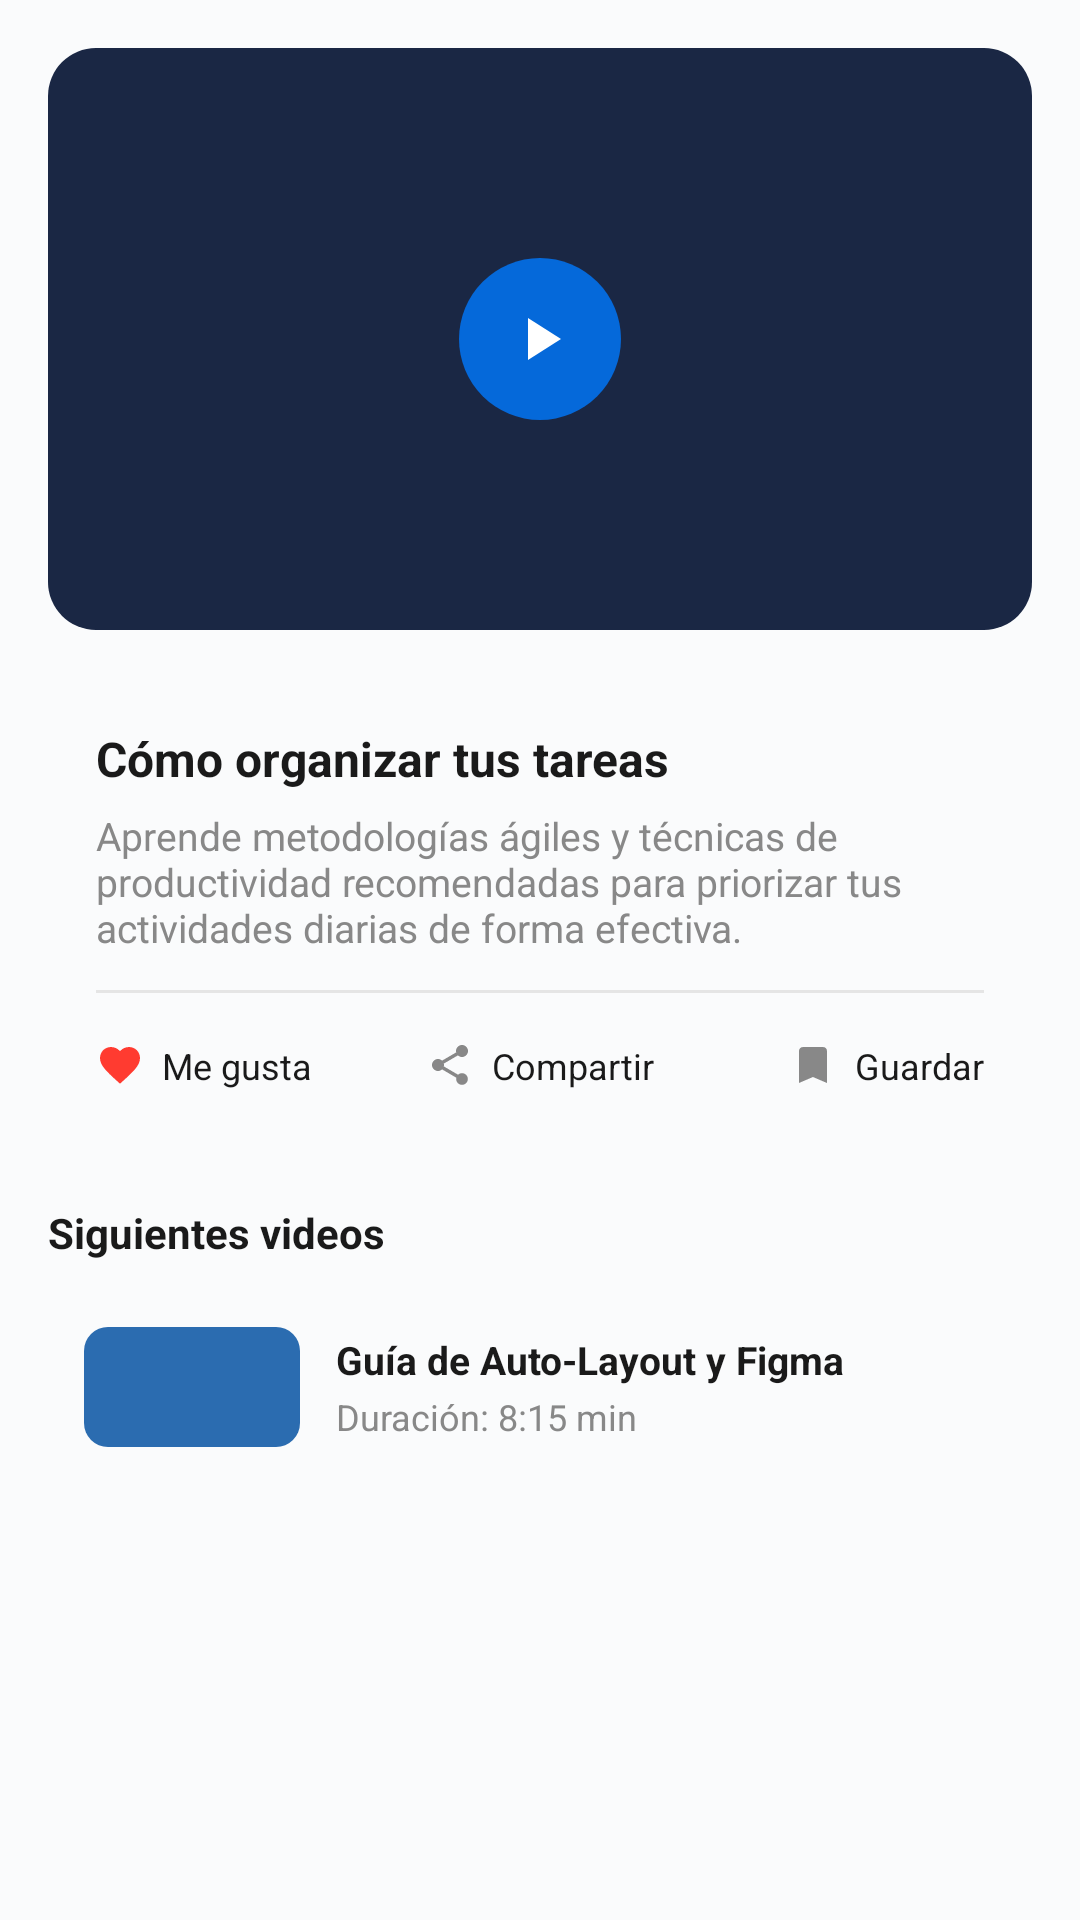

Point at icon controls on the screen. Image size 1080×1920, points as [x,y].
bookmark: [813,1065]
heart: [120,1065]
share: [450,1065]
Video Tutorial: [540,339]
